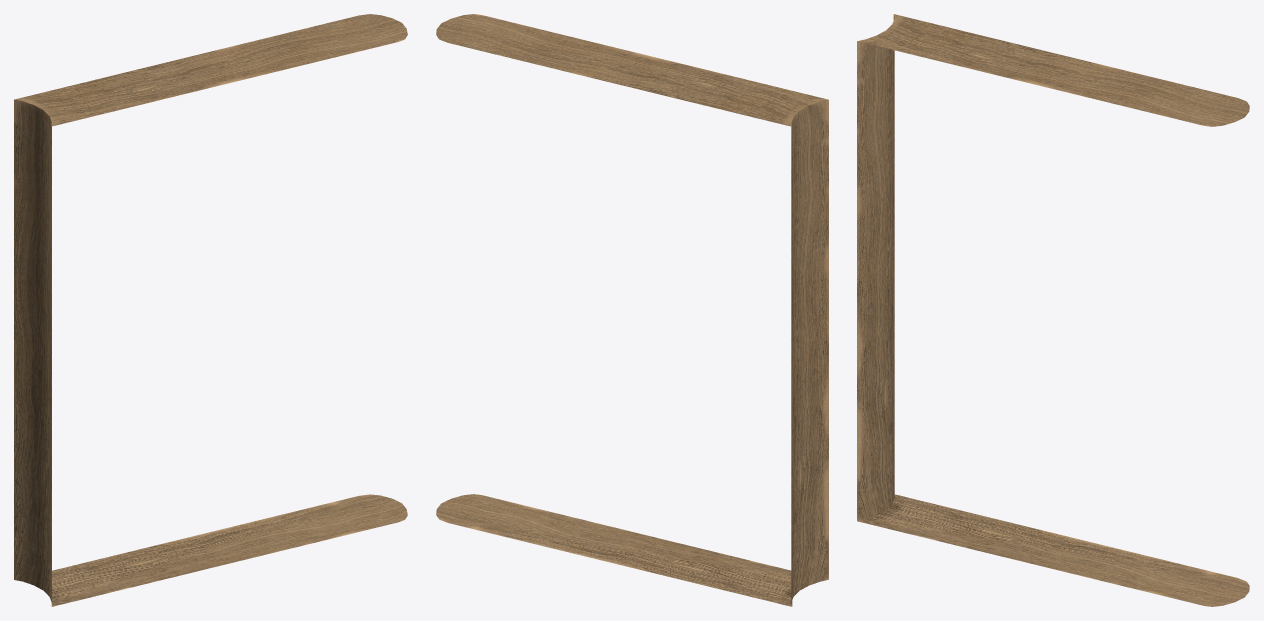
The model's file is Paper.obj.
3 renders of one model, left to right at view 1: azimuth 30°, elevation 25°; view 2: azimuth 150°, elevation 25°; view 3: azimuth 330°, elevation 25°, orthographic.
Bounding box in the file's own units: 0.0135 × 0.0167 × 0.00234.
1 material, 1 textured.
